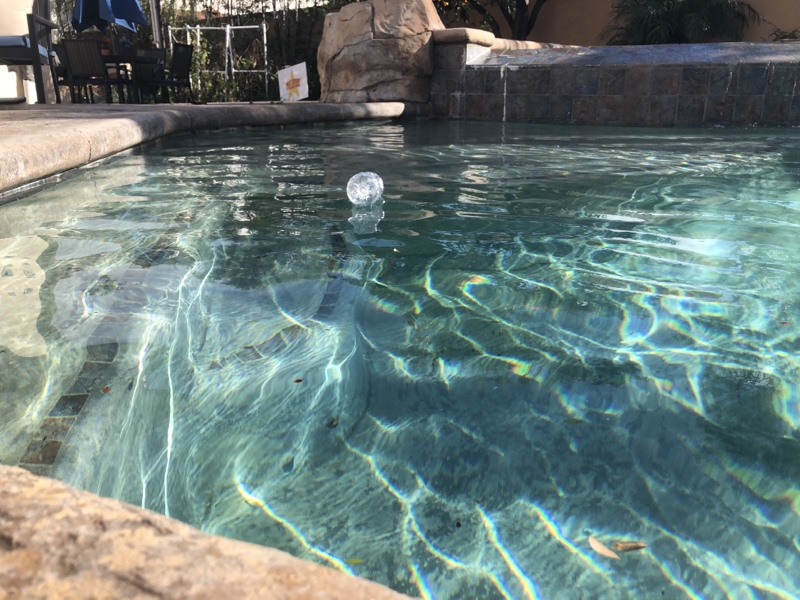Plastic Bottle: (343, 171, 386, 207)
